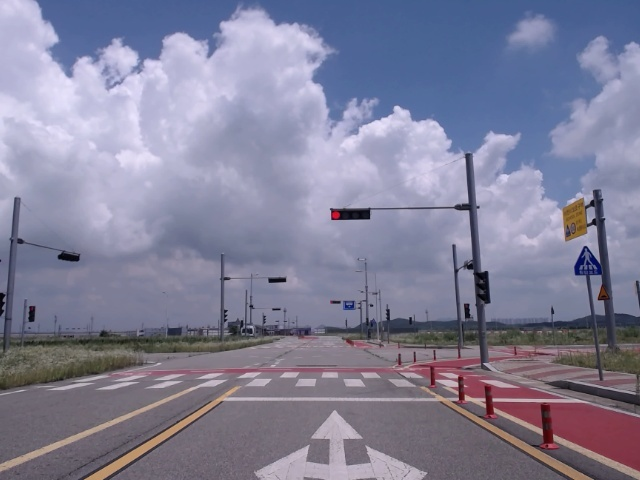red_4: (331, 209, 370, 220)
